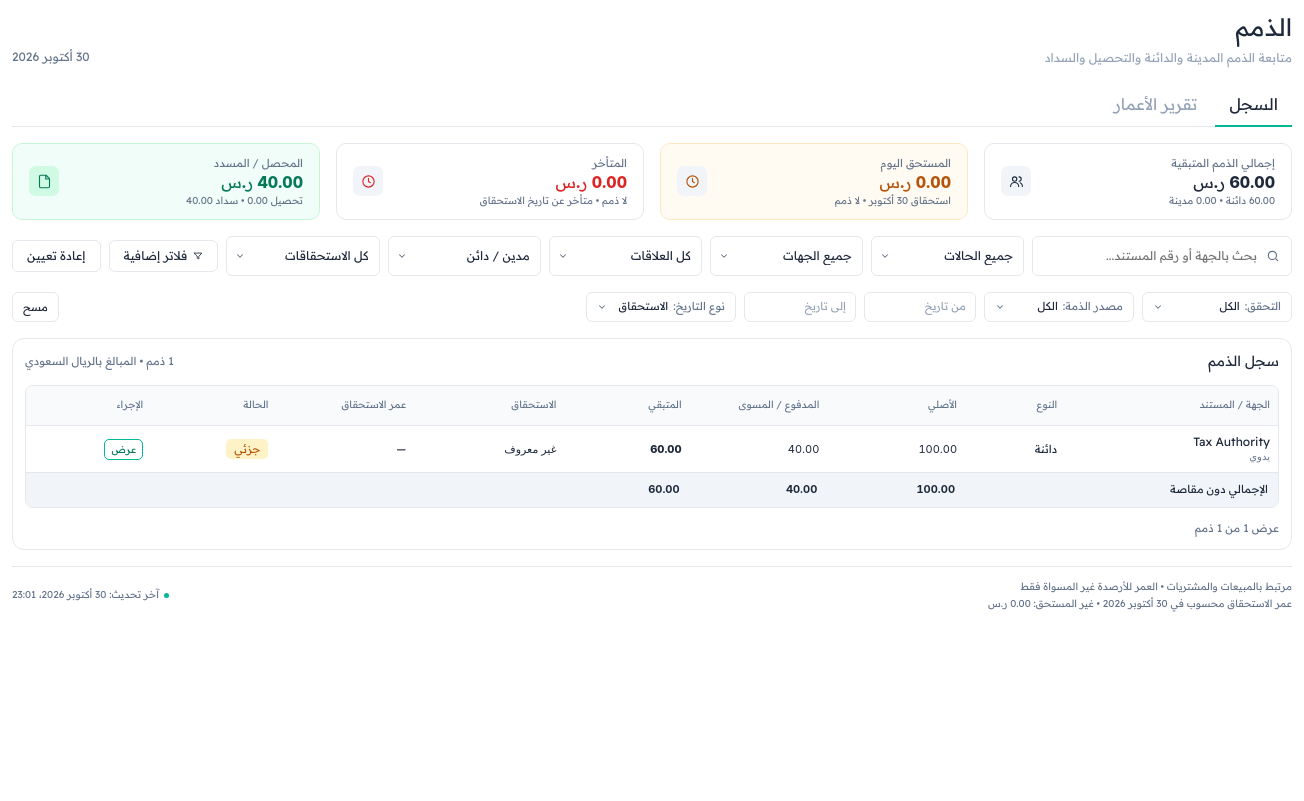
Scenario: D1/G5 government payment details UI › shows saved reference and period in the settlement history (LTR reference, AR date format)
The width and height of the screenshot is (1304, 801).
What coordinates should you click on to do the following:
click the cell "Tax Authority يدوي"
I would click on:
 (1172, 449)
Its box is [1065,426,1278,473].
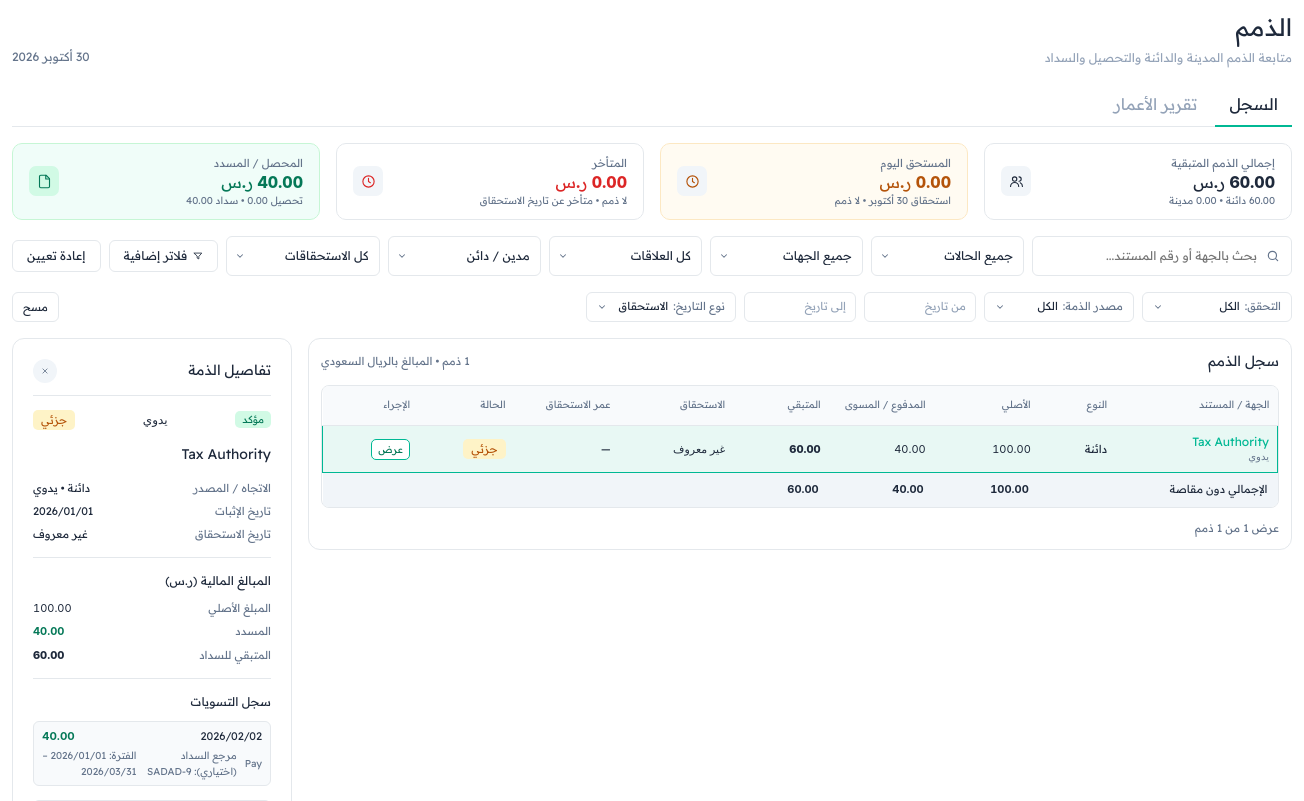
Expected: the element with test id "settlement-reference" shows "مرجع السداد", [181,749,237,778]
Expected: the text with test id "settlement-period" shows "2026/01/01 – 2026/03/31", [42,748,136,779]
